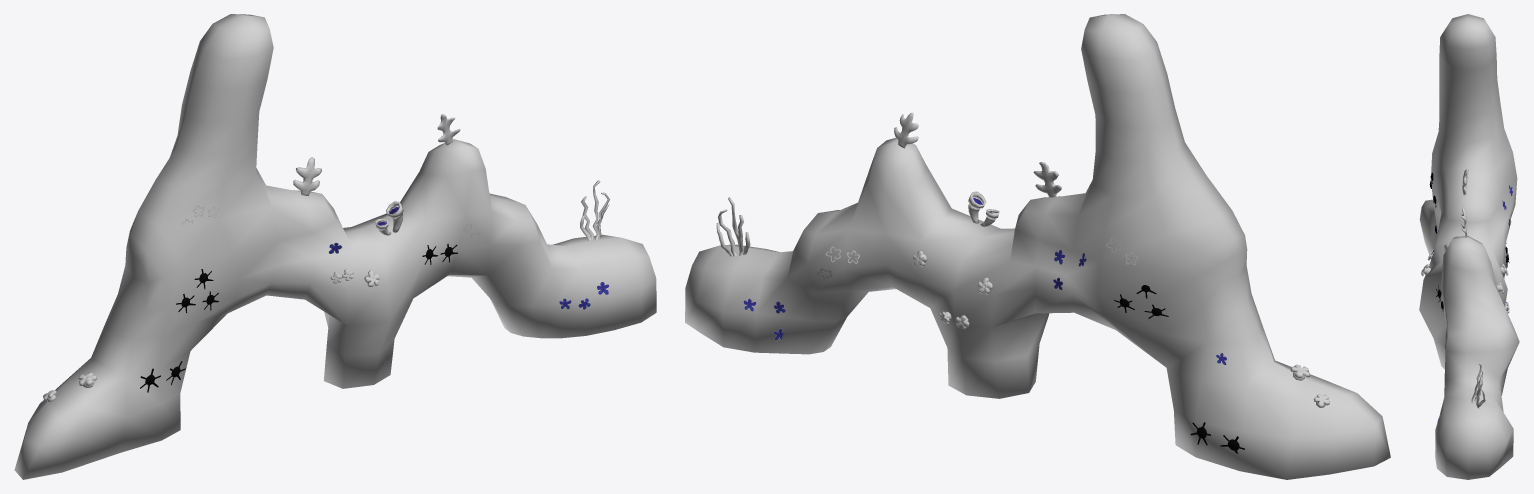
The model's file is big_coral_3.obj.
The picture shows the model from 3 angles, left to right: view 1: azimuth 30°, elevation 25°; view 2: azimuth 150°, elevation 25°; view 3: azimuth 270°, elevation 25°; orthographic projection. The views are drawn at different scales.
Visible parts, largest first — view 1: BigRock; view 2: BigRock; view 3: BigRock.
Part boxes in pixels (x1,y1,x2,y2): BigRock: [14, 14, 656, 479]; BigRock: [685, 14, 1390, 479]; BigRock: [1419, 14, 1519, 479].
Bounding box in the file's own units: 30.6 × 17.32 × 5.16.
Materials: 12 (4 with a texture image).
